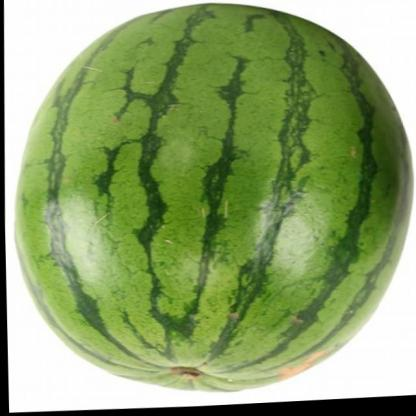watermelon: (5, 0, 416, 407)
